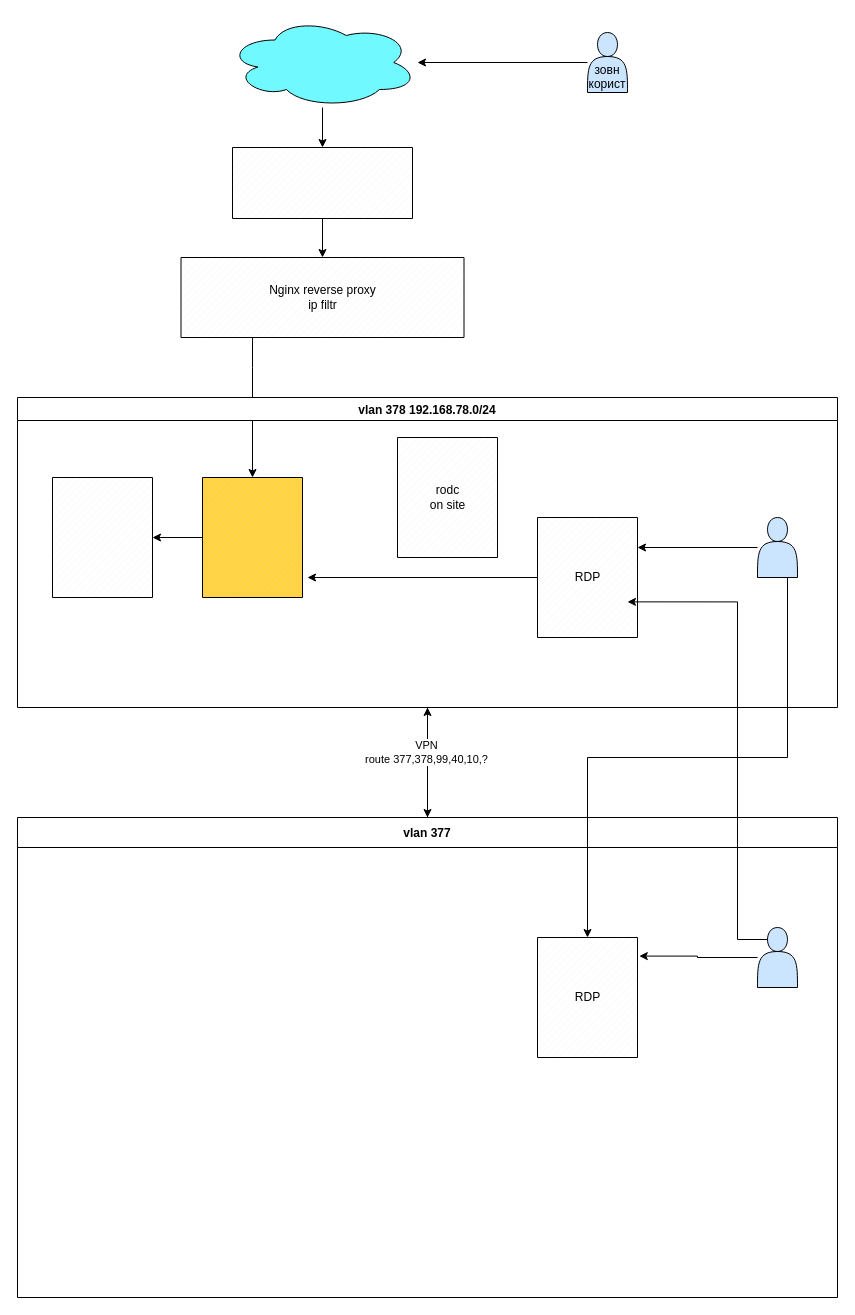
The diagram is 855 pixels wide and 1315 high, and some of its shapes have lost their labels. Each missing label, with the centre of its shape:
"EdgeRouter LetsEncrypt nat, dnat vpn" belongs at [322,182].
"IIS 1C" belongs at [252,537].
"Inet" belongs at [322,62].
"SQL server" belongs at [102,537].
